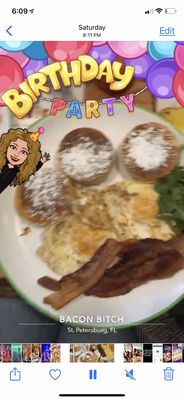curry: (17, 122, 181, 278)
